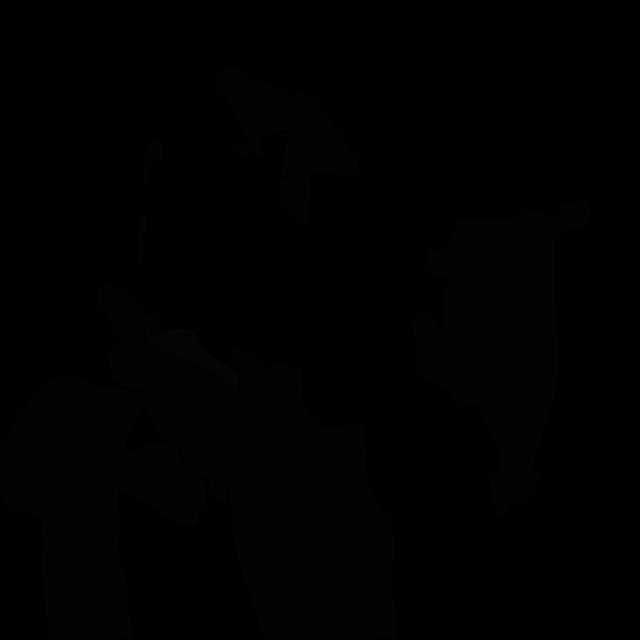cardboard: (412, 196, 590, 517), (228, 346, 397, 640), (0, 375, 144, 640), (98, 281, 232, 525), (215, 65, 361, 228), (142, 138, 163, 192), (137, 212, 148, 269)
soft_plastic: (144, 326, 239, 393)
